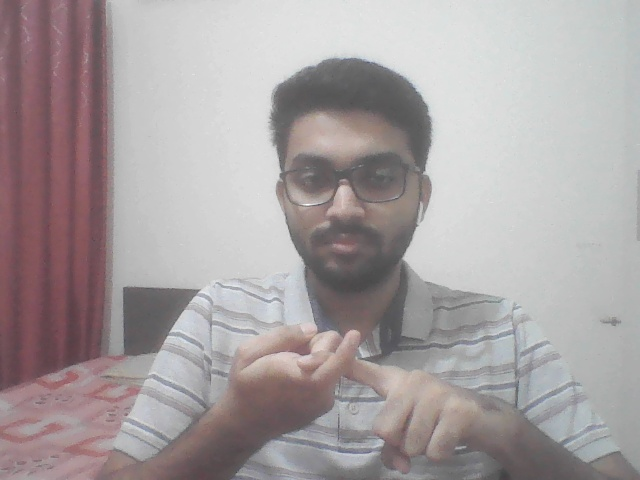friend: (192, 309, 530, 472)
